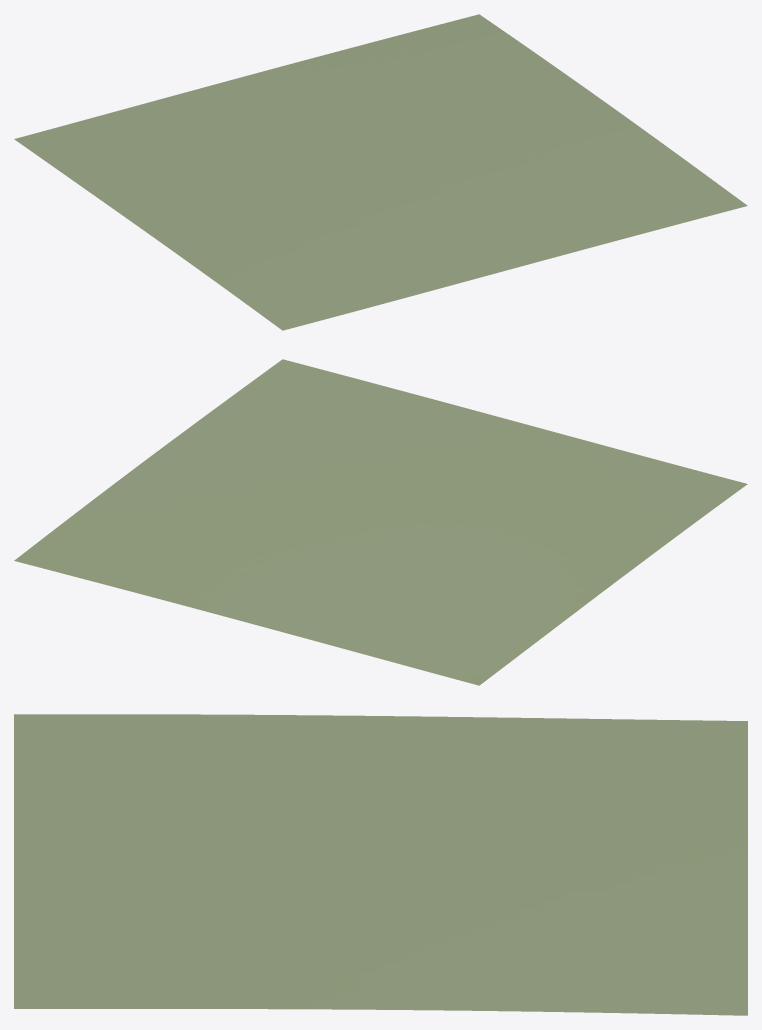
The model's file is expanse-18-11.glb.
3 renders of one model, top to bottom at view 1: azimuth 30°, elevation 25°; view 2: azimuth 150°, elevation 25°; view 3: azimuth 270°, elevation 25°, orthographic. The views are drawn at different scales.
Visible parts, largest first — view 1: expanse-18-11; view 2: expanse-18-11; view 3: expanse-18-11.
Boxes of the visible parts, left/top/right/bottom form: expanse-18-11: left=14, top=14, right=747, bottom=330; expanse-18-11: left=14, top=359, right=747, bottom=685; expanse-18-11: left=14, top=714, right=747, bottom=1015.
Bounding box in the file's own units: 256 × 8.63 × 256.
